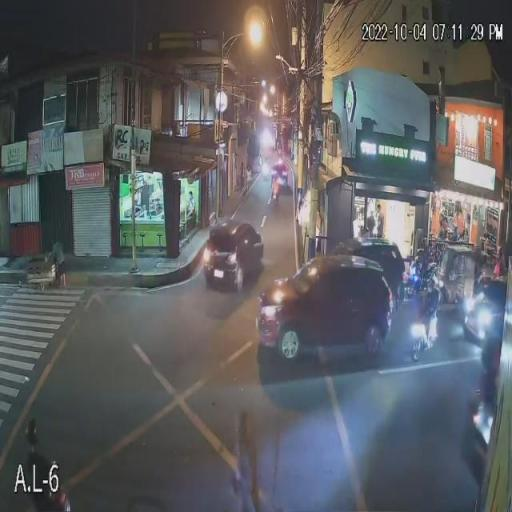helmet: (23, 410, 40, 448), (427, 276, 441, 289)
motorcycle: (407, 318, 448, 361), (44, 462, 71, 512)
rider: (24, 410, 48, 509), (426, 276, 441, 318)
